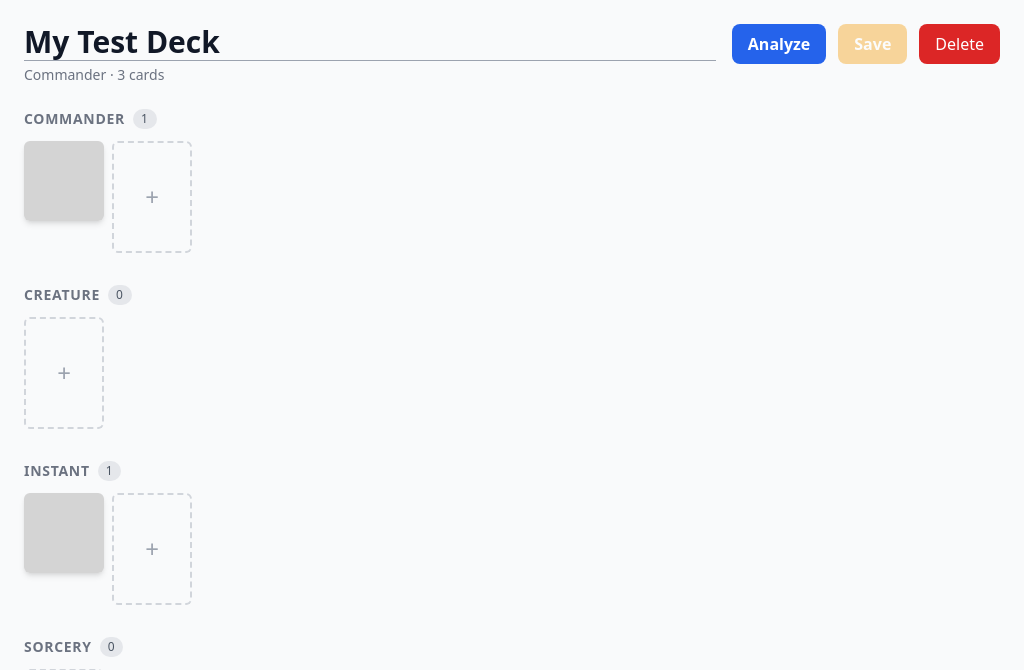
Test: DeckDetailPage › enables Save button when deck name is changed
This screenshot has width=1024, height=670.
Expected: the button "Save" is disabled, [838,24,907,64]
Replace the text in the field named "Deck name" with "Renamed Deck" at (370, 42), box [24,24,716,61]
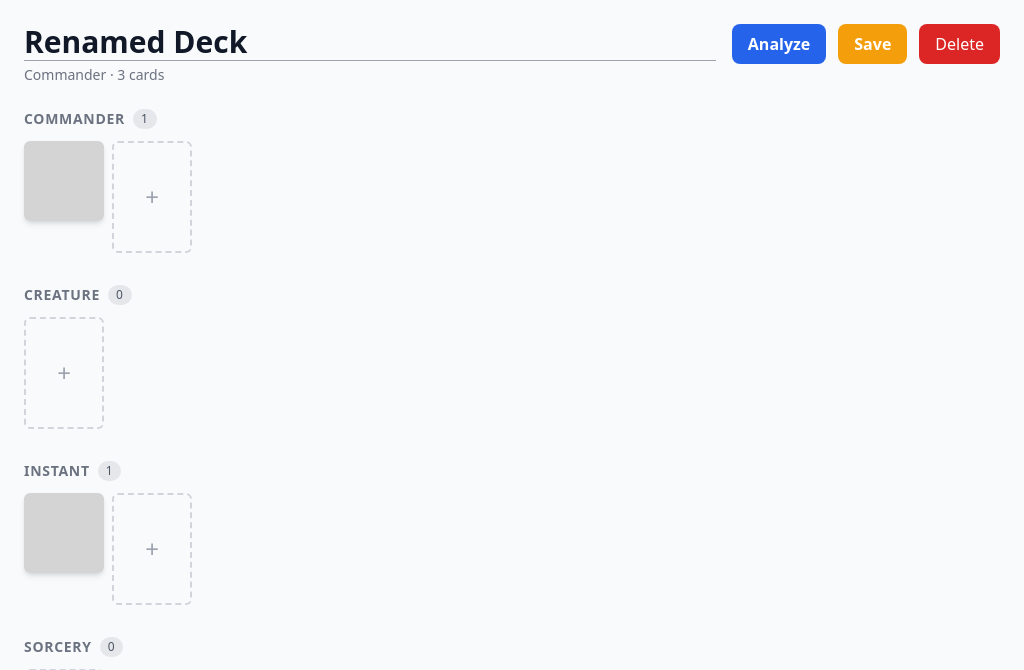
Now the button "Save" is enabled, box [838,24,907,64]
